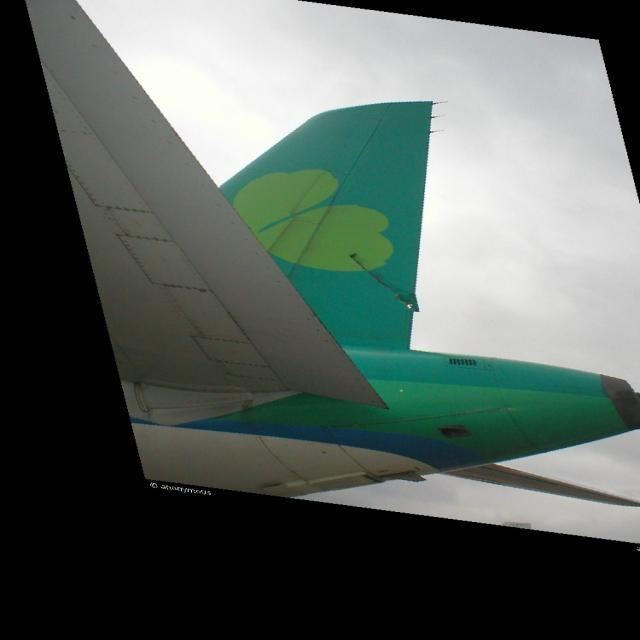crack: (344, 252, 420, 311)
